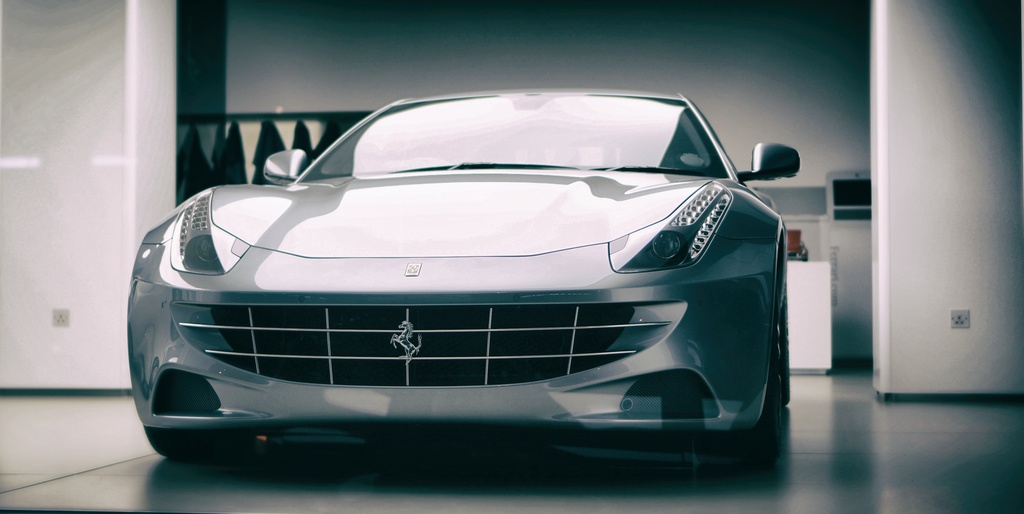Car: (130, 94, 803, 456)
